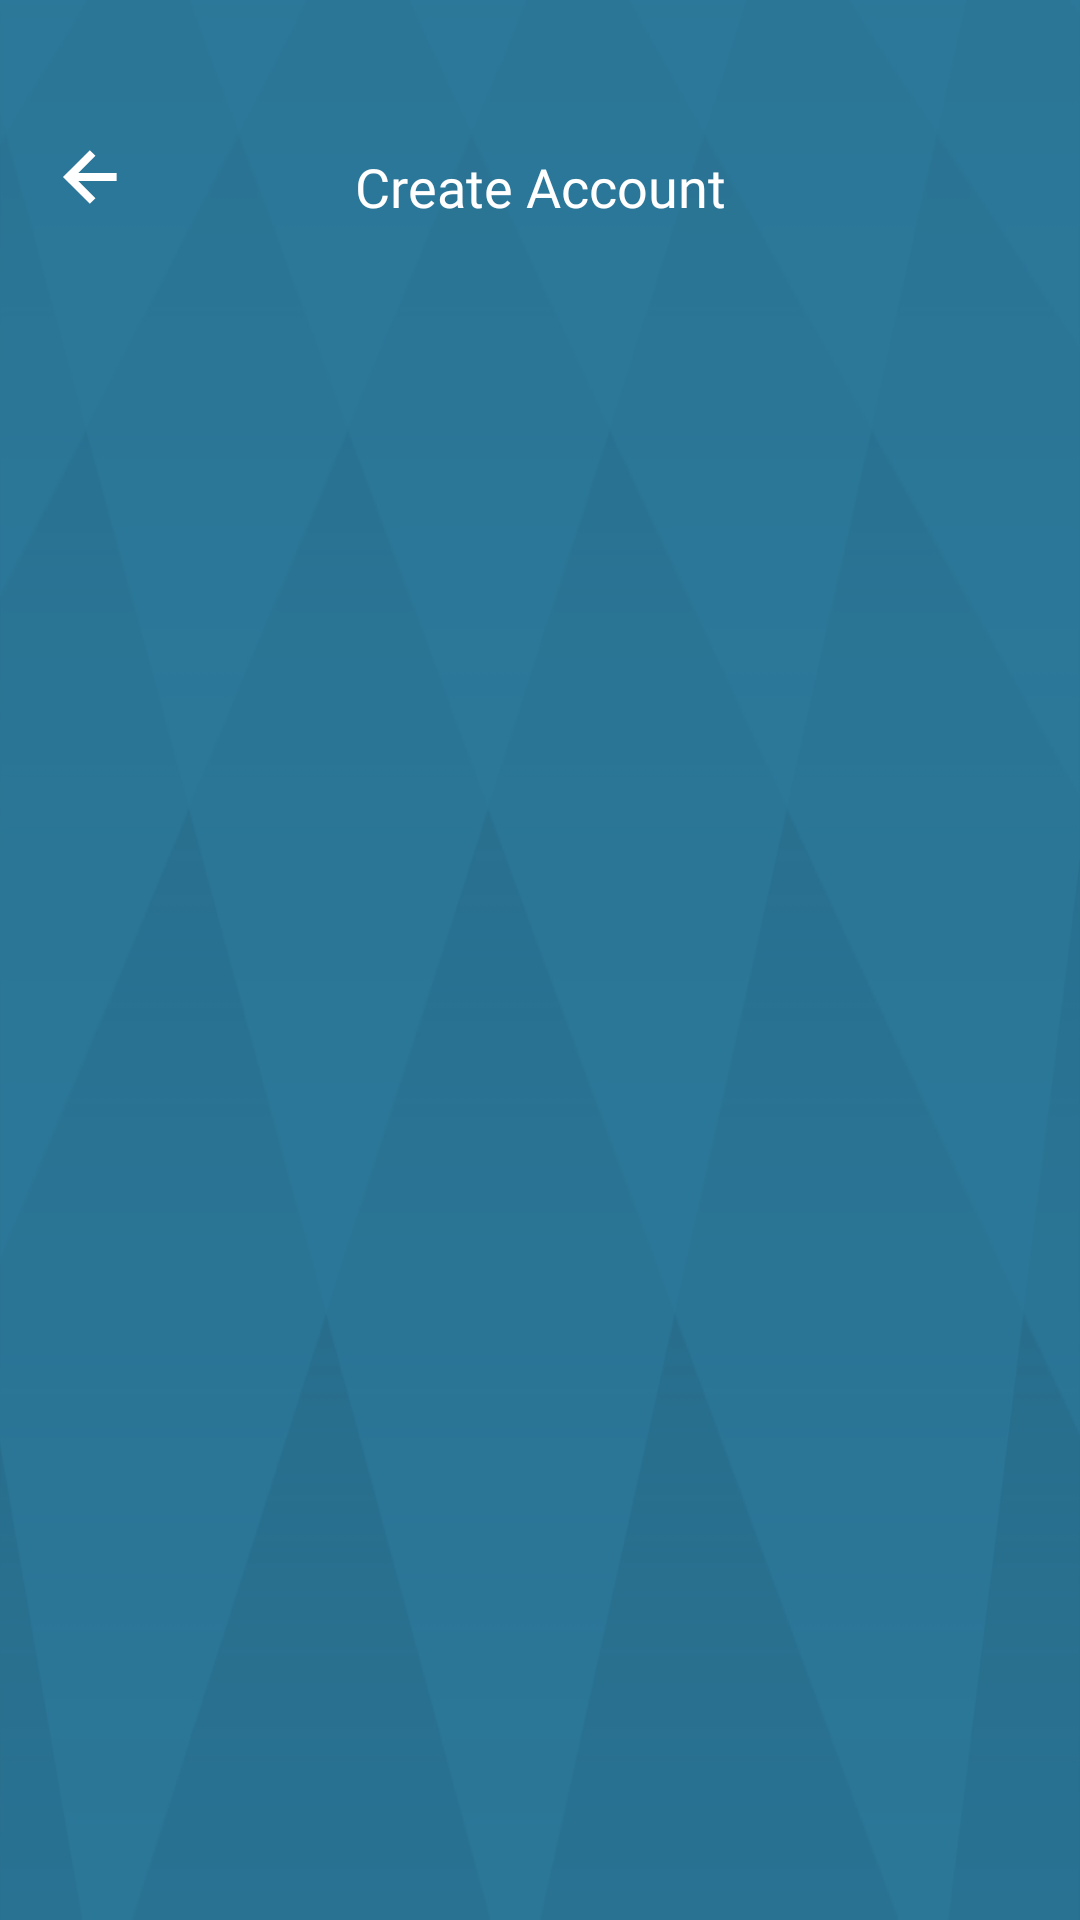

Icon click points for this 1080 × 1920 phone screenshot, format (x=x, y=y):
back: (x=90, y=177)
